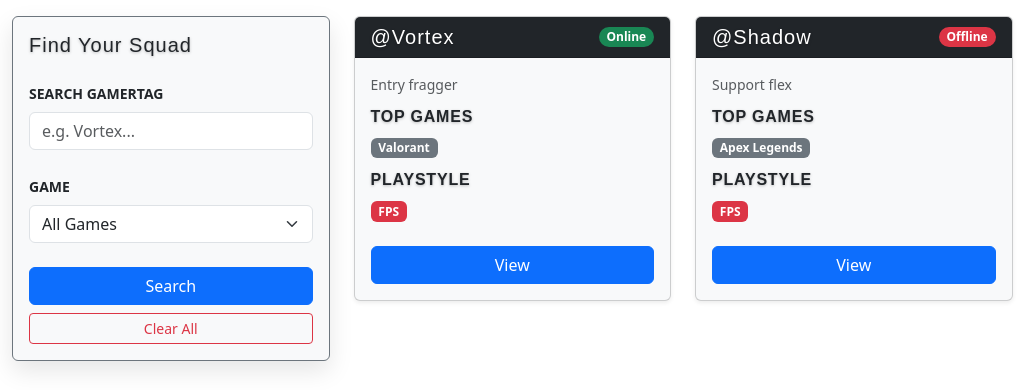
PlayerListing Component › filters players by selected game
This screenshot has width=1030, height=390.
Select "Apex Legends" in the dropdown at [171, 224], box 29,205 -> 312,243
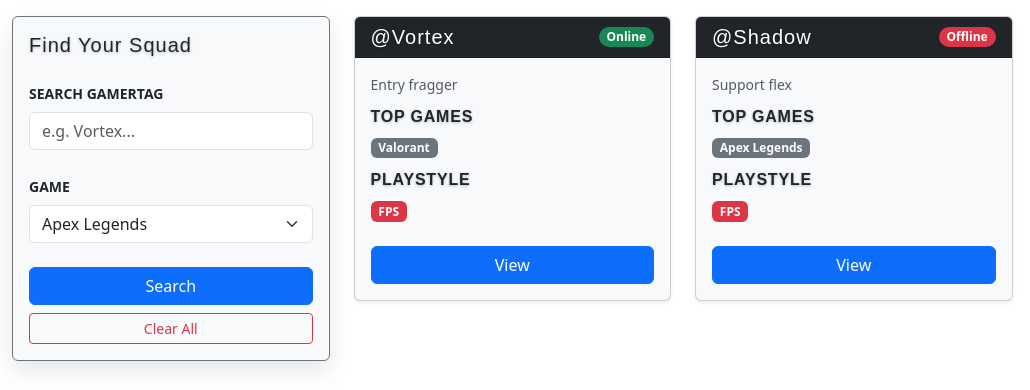
Click the button "Search" at [171, 286], box 29,267 -> 312,305
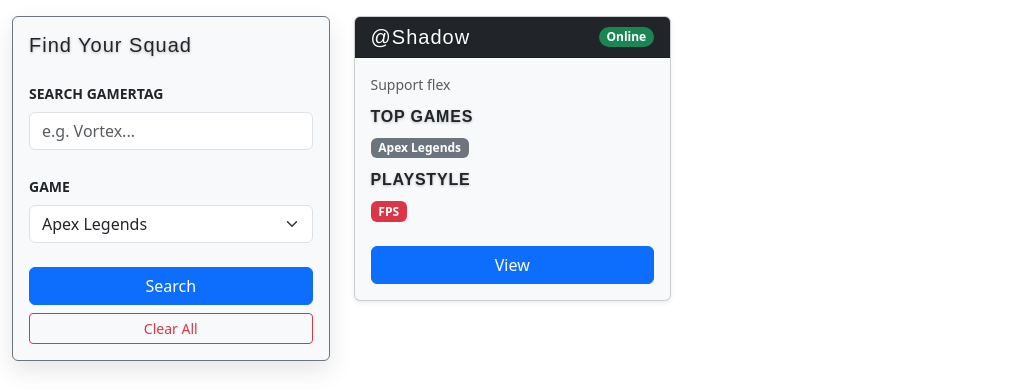
expect the heading "@Shadow" is shown: met, box 370,25 -> 470,49
expect the heading "@Vortex" is gone: met
